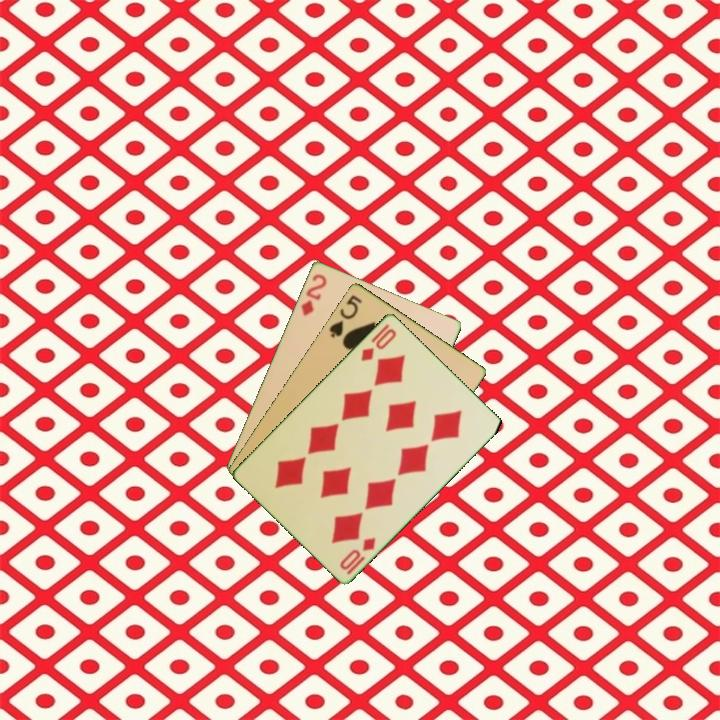10d: (357, 320, 400, 364), (336, 533, 378, 577)
2d: (297, 270, 330, 318)
5s: (325, 291, 365, 340)
